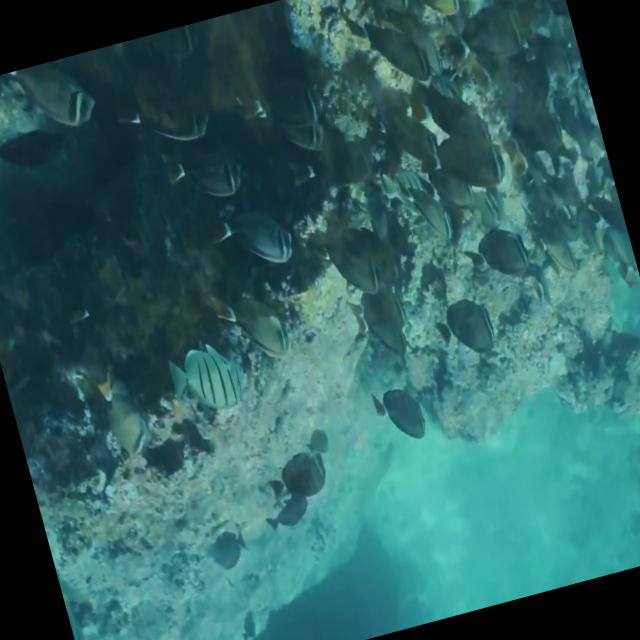fish: (211, 272, 295, 373), (206, 193, 298, 280), (8, 53, 98, 140), (165, 336, 246, 424), (431, 292, 499, 361), (456, 222, 528, 286), (348, 287, 410, 359), (263, 448, 332, 506), (373, 382, 430, 447), (207, 522, 253, 573)
